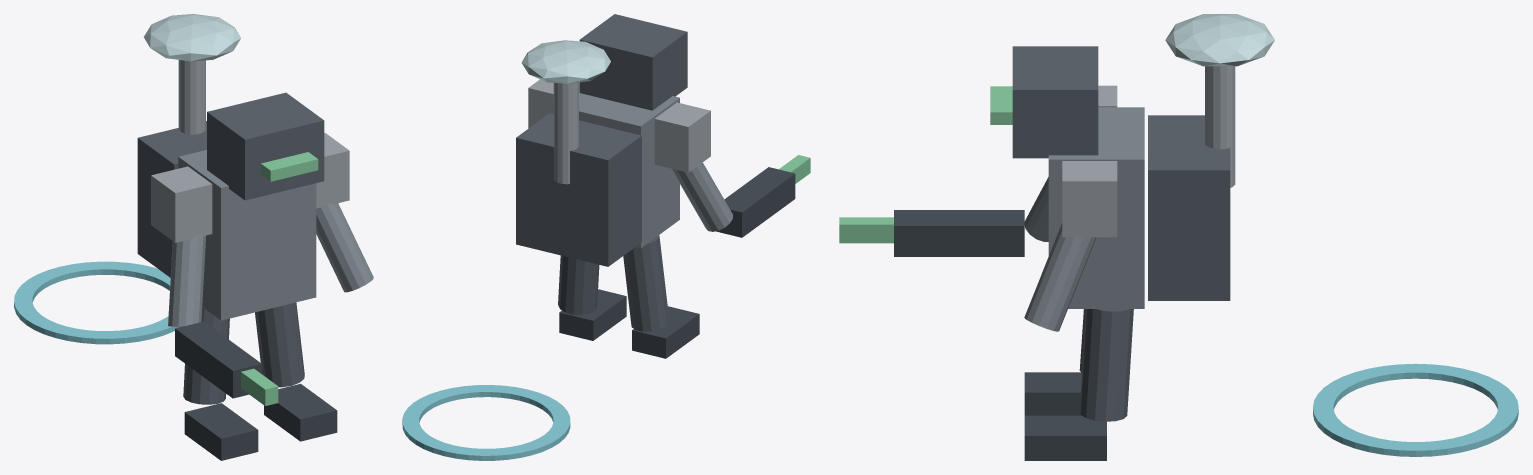
The model's file is human_radar_operator.glb.
3 renders of one model, left to right at view 1: azimuth 30°, elevation 25°; view 2: azimuth 150°, elevation 25°; view 3: azimuth 270°, elevation 25°, orthographic. The views are drawn at different scales.
Parts seen in each view (by area): view 1: torso, helmet, scan_ring, sensor_pack, shoulder_-1, marking_device, radar_dish, leg_1, boot_-1, arm_-1, arm_1, boot_1 (+5 smaller); view 2: sensor_pack, helmet, torso, scan_ring, shoulder_-1, leg_-1, marking_device, radar_dish, dish_mast, leg_1, arm_-1, boot_-1 (+3 smaller); view 3: sensor_pack, torso, helmet, scan_ring, marking_device, leg_1, radar_dish, shoulder_1, arm_1, boot_1, dish_mast, boot_-1 (+3 smaller).
Boxes of the visible parts, x1,y1,x2,y2 form: torso: (178,150,316,320); helmet: (207,92,324,200); scan_ring: (14,261,178,344); sensor_pack: (137,121,206,277); shoulder_-1: (151,166,212,242); marking_device: (175,321,261,398); radar_dish: (144,14,240,61); leg_1: (255,302,304,387); boot_-1: (184,403,258,460); arm_-1: (168,235,206,327); arm_1: (316,203,373,292); boot_1: (264,383,337,441); sensor_pack: (516,113,641,266); helmet: (579,14,687,110); torso: (553,86,679,248); scan_ring: (402,385,570,460); shoulder_-1: (654,102,710,172); leg_-1: (623,235,669,331); marking_device: (716,167,795,237); radar_dish: (521,40,610,83); dish_mast: (553,82,578,184); leg_1: (558,255,599,315); arm_-1: (671,162,732,231); boot_-1: (632,306,699,358); sensor_pack: (1148,115,1230,300); torso: (1048,107,1144,308); helmet: (1012,46,1098,158); scan_ring: (1313,363,1518,456); marking_device: (894,210,1024,256); leg_1: (1079,309,1133,421); radar_dish: (1165,14,1274,66); shoulder_1: (1062,161,1117,237); arm_1: (1024,223,1096,331); boot_1: (1024,415,1106,460); dish_mast: (1205,66,1235,187); boot_-1: (1024,372,1081,415).
Bounding box in the file's own units: 0.7769 × 1.3 × 1.98.
